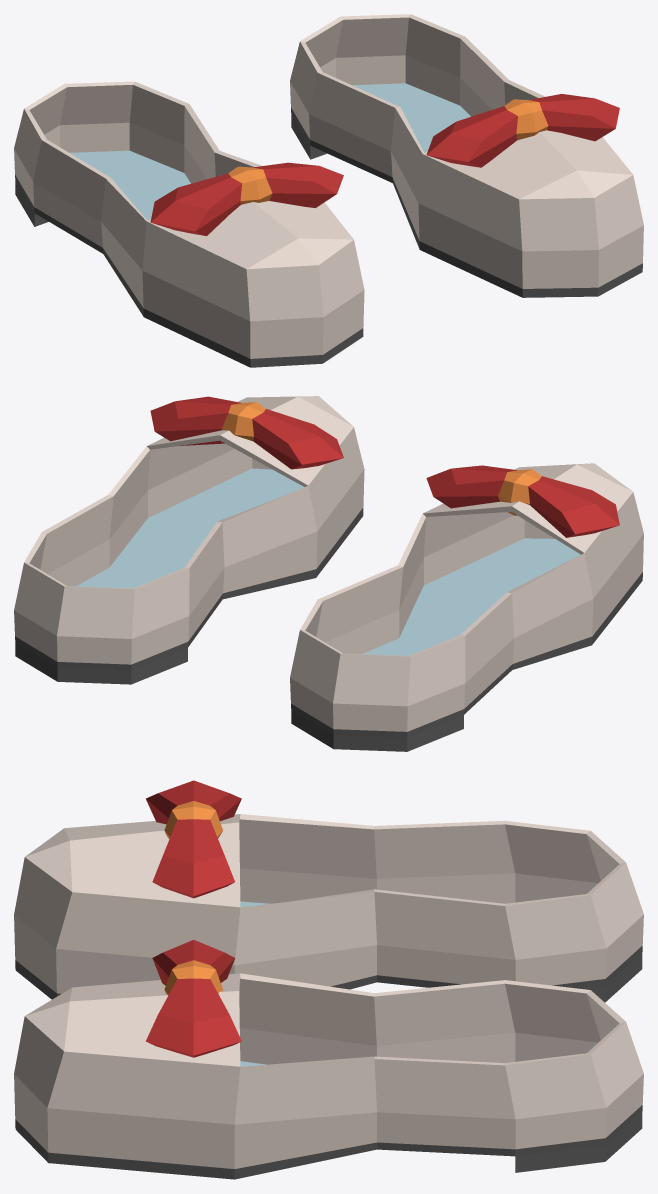
File: Loafers_2.fbx
3 renders of one model, top to bottom at view 1: azimuth 30°, elevation 25°; view 2: azimuth 150°, elevation 25°; view 3: azimuth 270°, elevation 25°, orthographic. The views are drawn at different scales.
Visible parts, largest first — view 1: Loafers_2; view 2: Loafers_2; view 3: Loafers_2.
Boxes of the visible parts, x1=… form: Loafers_2: x1=14, y1=14, x2=643, y2=367; Loafers_2: x1=14, y1=396, x2=643, y2=751; Loafers_2: x1=14, y1=780, x2=643, y2=1179.
Bounding box in the file's own units: 37.87 × 37.2 × 10.82.
